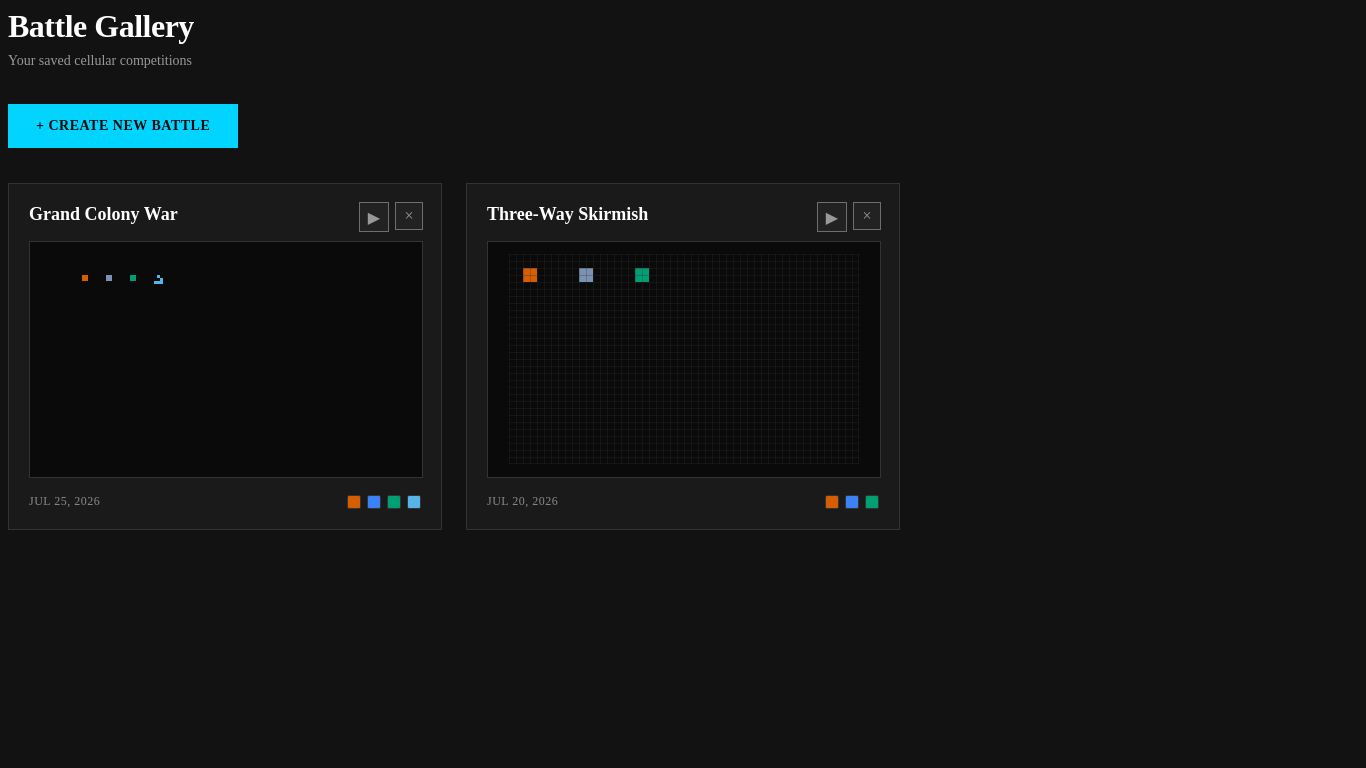
Scenario: BattleGallery — delete flow (Story 1.13) › has no axe violations with the delete dialog open (AC5)
The width and height of the screenshot is (1366, 768).
Click the button named "Delete " at (409, 216), box x1=395 y1=202 x2=423 y2=230
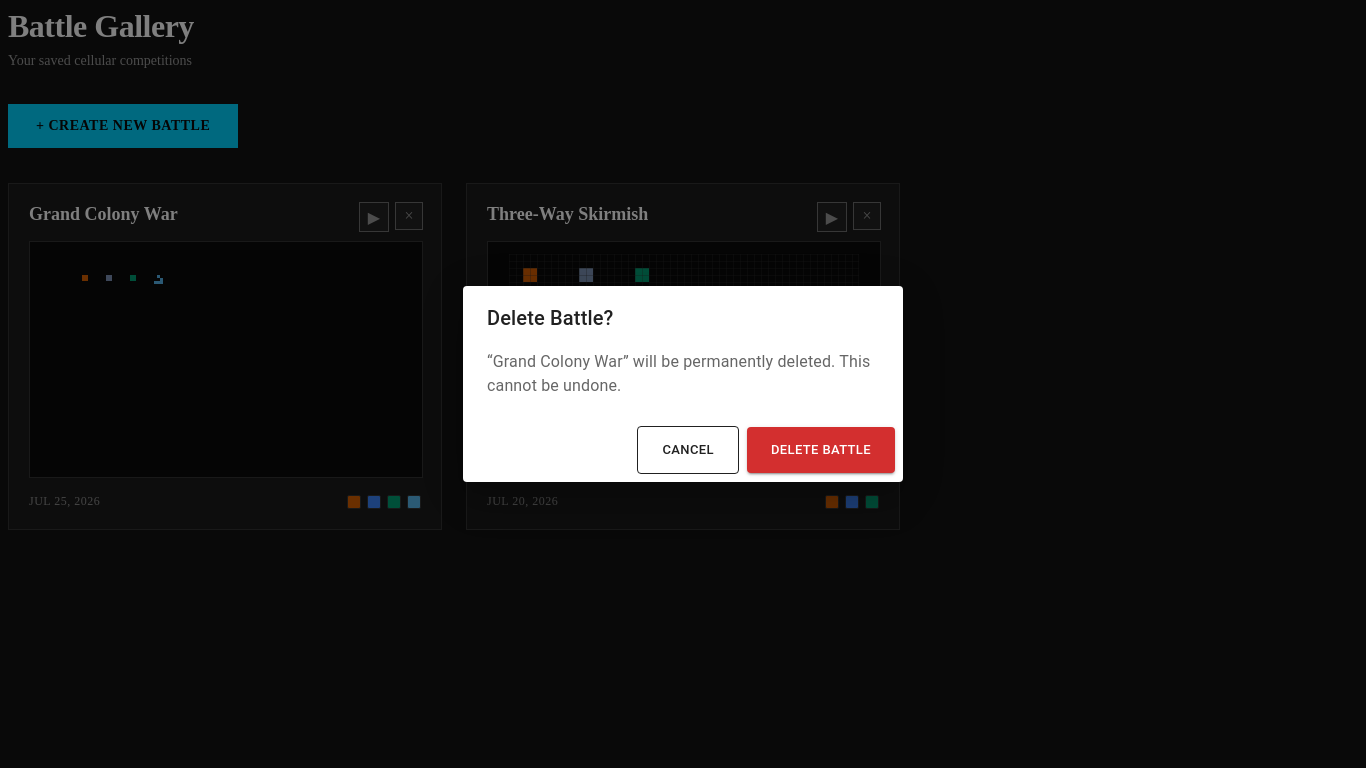
Expected: the dialog is shown, x1=463 y1=286 x2=903 y2=482
